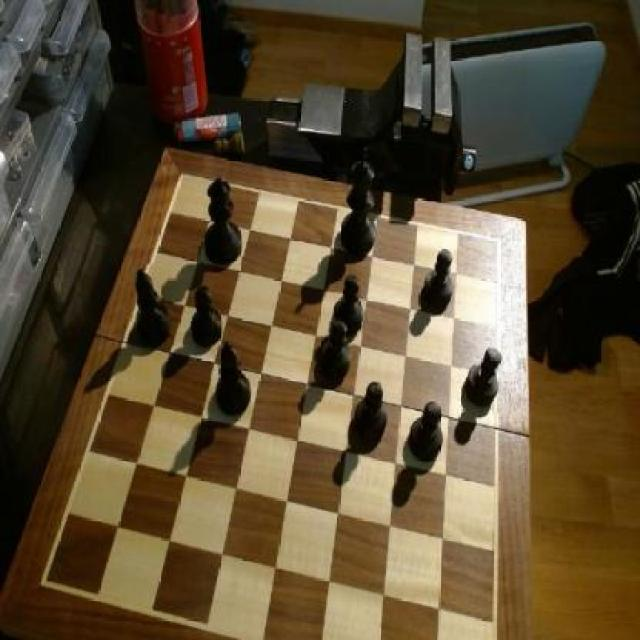bishop: (129, 263, 174, 348), (212, 337, 255, 419)
black-bishop: (338, 148, 382, 257)
black-knight: (462, 343, 502, 414), (408, 400, 445, 465), (352, 381, 388, 444), (420, 248, 456, 310), (318, 317, 352, 380), (190, 285, 224, 346), (334, 272, 366, 335)
black-pawn: (200, 176, 244, 266)
